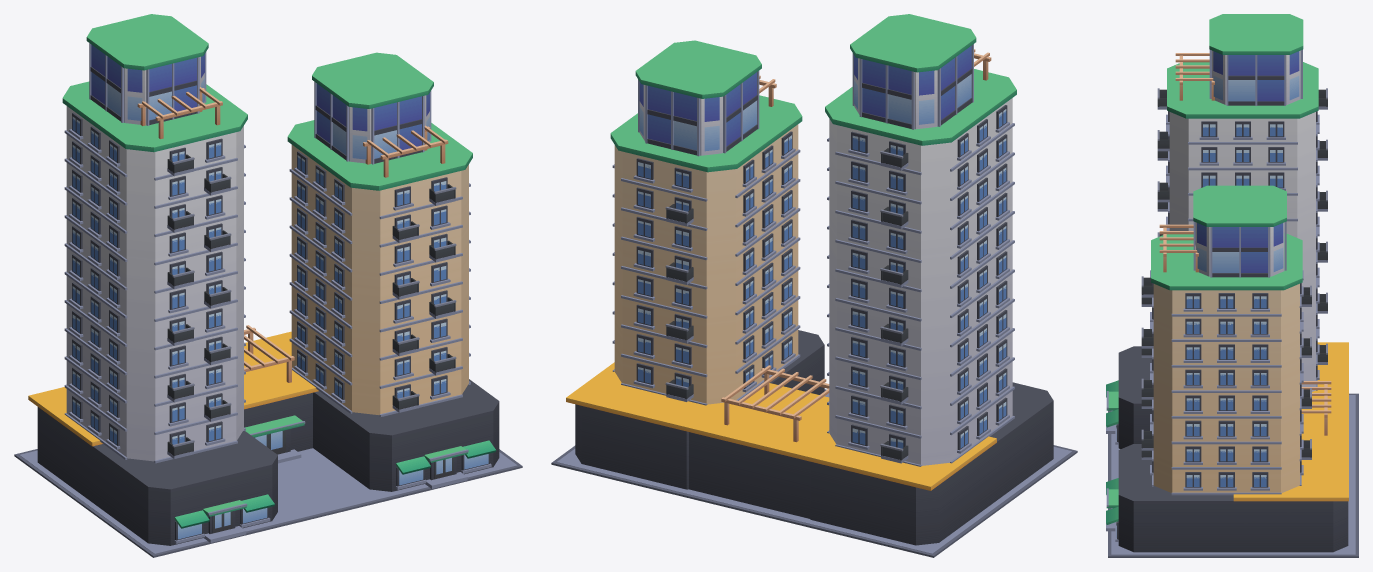
The model's file is res_twin_towers_3x2.glb.
The picture shows the model from 3 angles, left to right: view 1: azimuth 30°, elevation 25°; view 2: azimuth 150°, elevation 25°; view 3: azimuth 270°, elevation 25°; orthographic projection. The views are drawn at different scales.
Parts seen in each view (by area): view 1: res_twin_towers_3x2; view 2: res_twin_towers_3x2; view 3: res_twin_towers_3x2.
Boxes of the visible parts, x1,y1,x2,y2 form: res_twin_towers_3x2: (14, 14, 522, 557); res_twin_towers_3x2: (551, 14, 1077, 557); res_twin_towers_3x2: (1106, 14, 1358, 557).
Bounding box in the file's own units: 5.74 × 6.52 × 3.77.
1 material, 1 textured.
